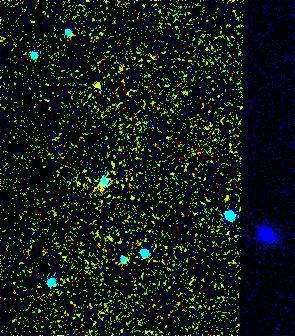star: (117, 181, 147, 211)
